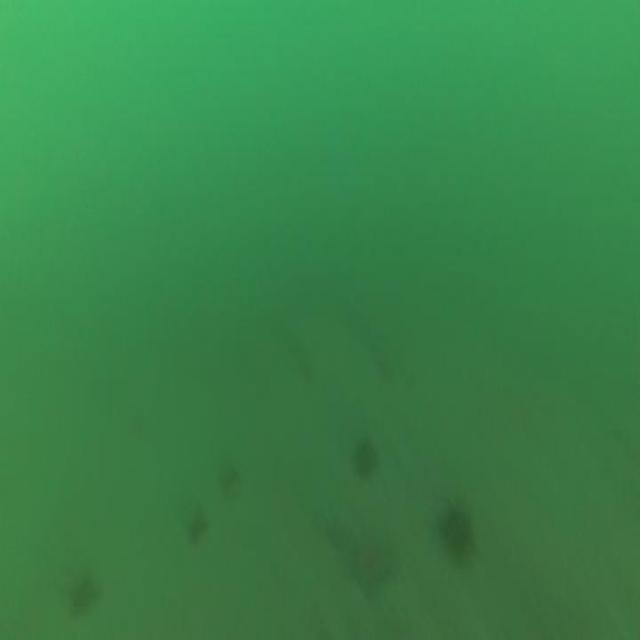echinus: (436, 493, 476, 567), (348, 433, 378, 487), (68, 571, 100, 621), (213, 460, 243, 504), (186, 510, 210, 547)
starfish: (333, 515, 399, 605)
